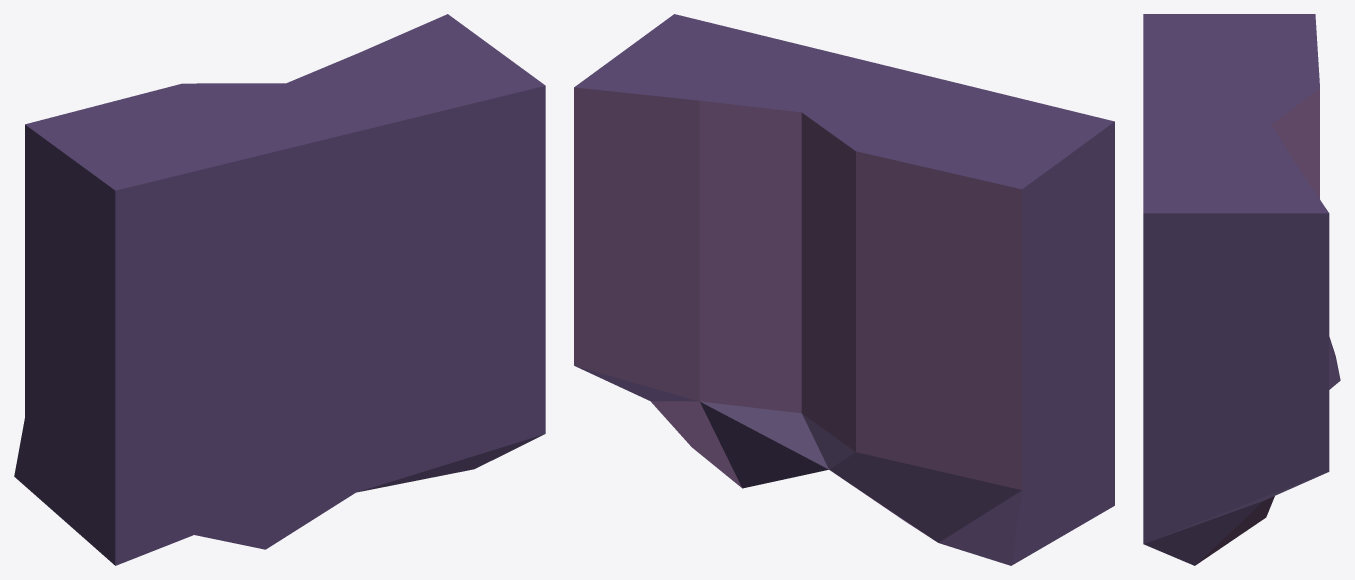
Rendered from guard_pink_1.fbx.
3 views of the same model, side by side, from view 1: azimuth 30°, elevation 25°; view 2: azimuth 150°, elevation 25°; view 3: azimuth 270°, elevation 25° (orthographic). The views are drawn at different scales.
Visible parts, largest first — view 1: Cube.001; view 2: Cube.001; view 3: Cube.001.
Boxes of the visible parts, x1,y1,x2,y2 form: Cube.001: [14, 14, 545, 565]; Cube.001: [574, 14, 1114, 565]; Cube.001: [1143, 14, 1340, 565].
Bounding box in the file's own units: 1019 × 895 × 426.
